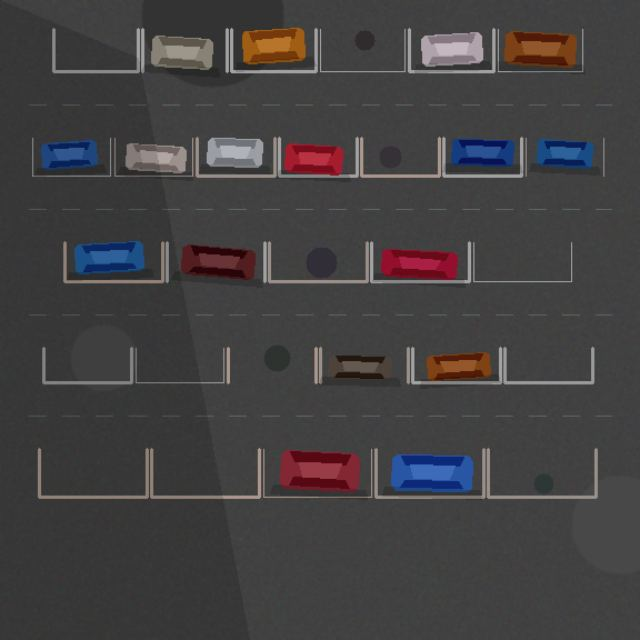space-empty: (39, 449, 147, 497), (151, 449, 259, 497), (488, 449, 596, 497), (269, 242, 367, 281), (473, 242, 571, 281), (53, 29, 138, 71), (320, 29, 404, 71), (43, 348, 131, 382), (228, 348, 316, 382), (504, 348, 592, 382), (361, 138, 439, 176), (136, 348, 223, 382)
space-occupied: (263, 449, 371, 497), (376, 449, 483, 497), (64, 242, 162, 281), (371, 242, 469, 281), (167, 242, 264, 281), (142, 29, 227, 71), (231, 29, 316, 71), (409, 29, 493, 71), (498, 29, 582, 71), (320, 348, 408, 382), (412, 348, 500, 382), (32, 138, 110, 176), (114, 138, 192, 176), (279, 138, 357, 176), (443, 138, 521, 176), (197, 138, 274, 176), (526, 138, 603, 176)
